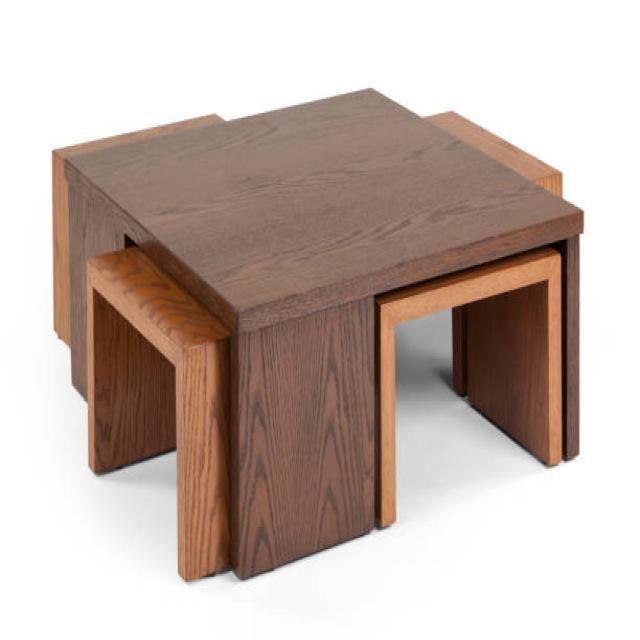table: (51, 86, 584, 582)
